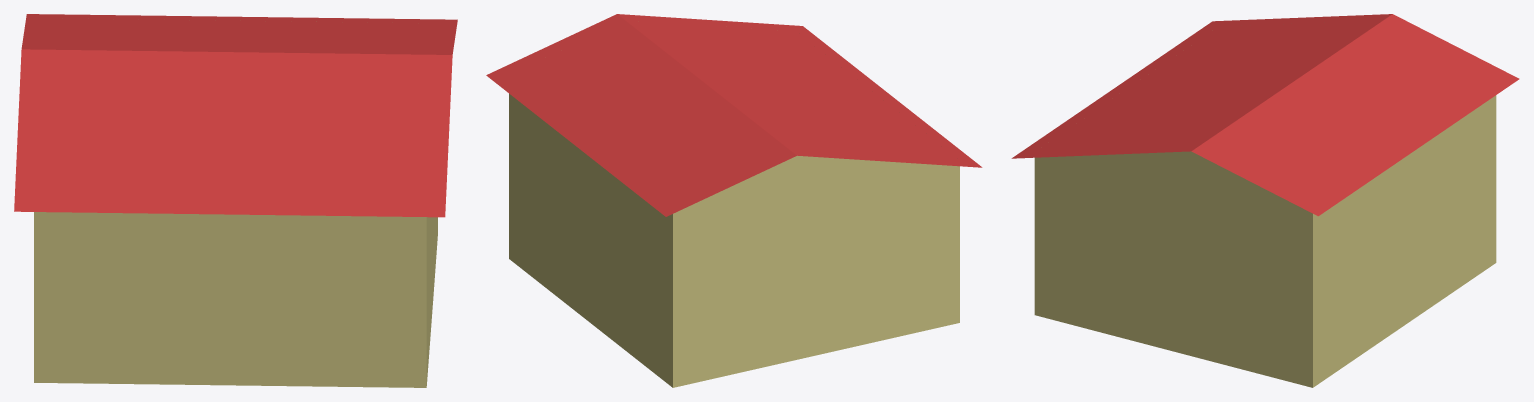
3 renders of one model, left to right at view 1: azimuth 30°, elevation 25°; view 2: azimuth 150°, elevation 25°; view 3: azimuth 270°, elevation 25°, orthographic. The views are drawn at different scales.
Size of the model in its own units: 22.77 by 22.47 by 10.39.
